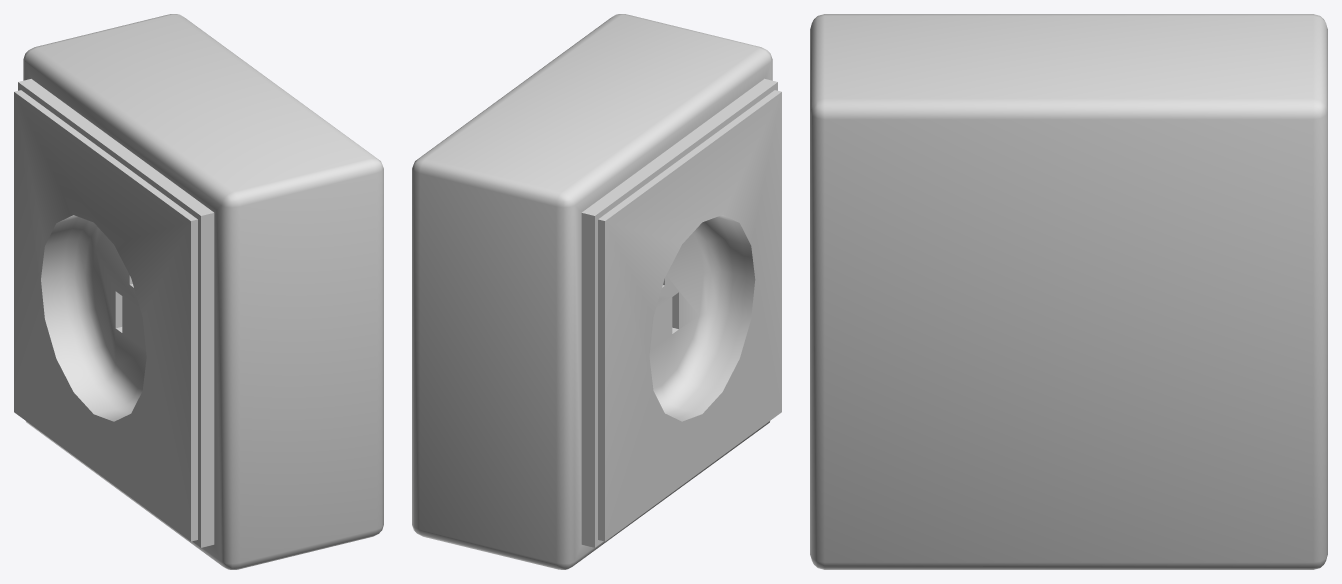
The model's file is Socket01.fbx.
3 views of the same model, side by side, from view 1: azimuth 30°, elevation 25°; view 2: azimuth 150°, elevation 25°; view 3: azimuth 270°, elevation 25° (orthographic). The views are drawn at different scales.
Parts seen in each view (by area): view 1: Socket01; view 2: Socket01; view 3: Socket01.
Boxes of the visible parts, x1=… form: Socket01: x1=14, y1=14, x2=383, y2=569; Socket01: x1=412, y1=14, x2=781, y2=569; Socket01: x1=810, y1=14, x2=1327, y2=569.
Bounding box in the file's own units: 0.066 × 0.1248 × 0.1248.
